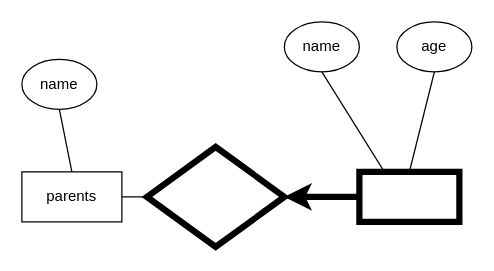
Image size: 494x271. Some labels were removed from this diagram. Here are the shapes that lost their labels. From the top down, the centre of each, then its label:
the point at 215,196: is_parent_child
the point at 409,196: children
